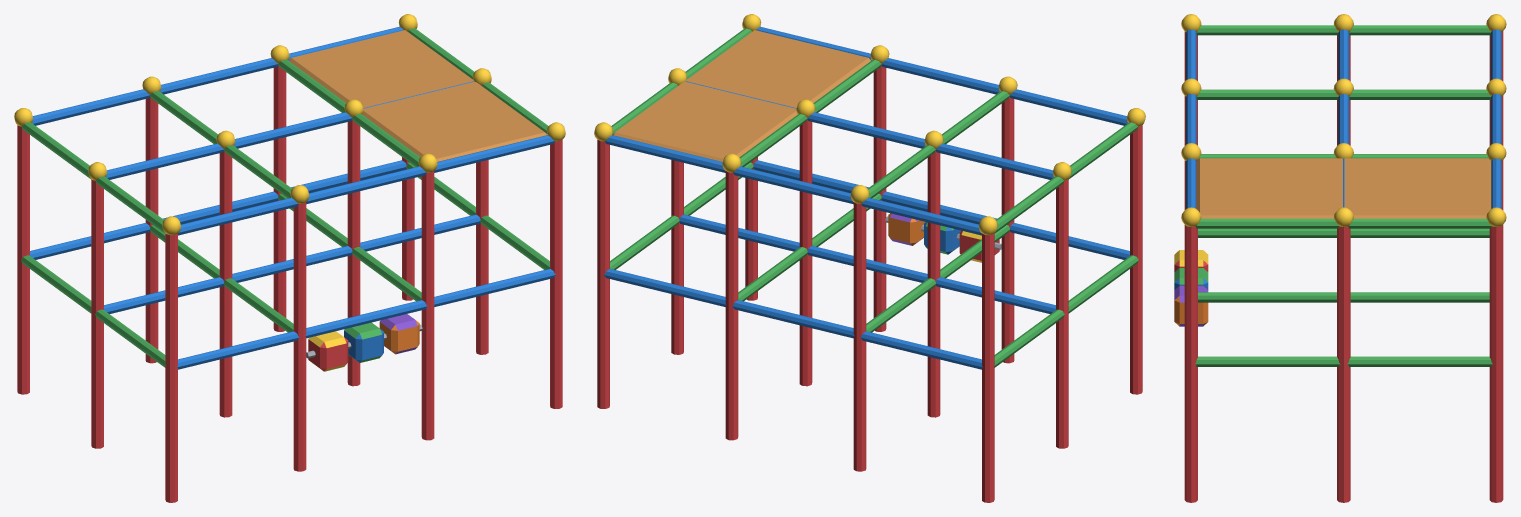
File: trepa_trepa_cubos.glb
3 renders of one model, left to right at view 1: azimuth 30°, elevation 25°; view 2: azimuth 150°, elevation 25°; view 3: azimuth 270°, elevation 25°, orthographic. The views are drawn at different scales.
Visible parts, largest first — view 1: trepa_trepa_cubos, cubo_1, cubo_3, cubo_2; view 2: trepa_trepa_cubos, cubo_3; view 3: trepa_trepa_cubos, cubo_3, cubo_2, cubo_1.
Boxes of the visible parts, <box> form: trepa_trepa_cubos: <box>14,14,565,502</box>; cubo_1: <box>308,331,348,371</box>; cubo_3: <box>379,314,419,354</box>; cubo_2: <box>344,322,383,362</box>; trepa_trepa_cubos: <box>594,14,1145,502</box>; cubo_3: <box>888,213,925,245</box>; trepa_trepa_cubos: <box>1181,14,1506,502</box>; cubo_3: <box>1174,285,1208,326</box>; cubo_2: <box>1174,268,1208,289</box>; cubo_1: <box>1174,250,1208,271</box>.
Bounding box in the file's own units: 2.82 × 1.9 × 1.96.
1 material, 1 textured.
